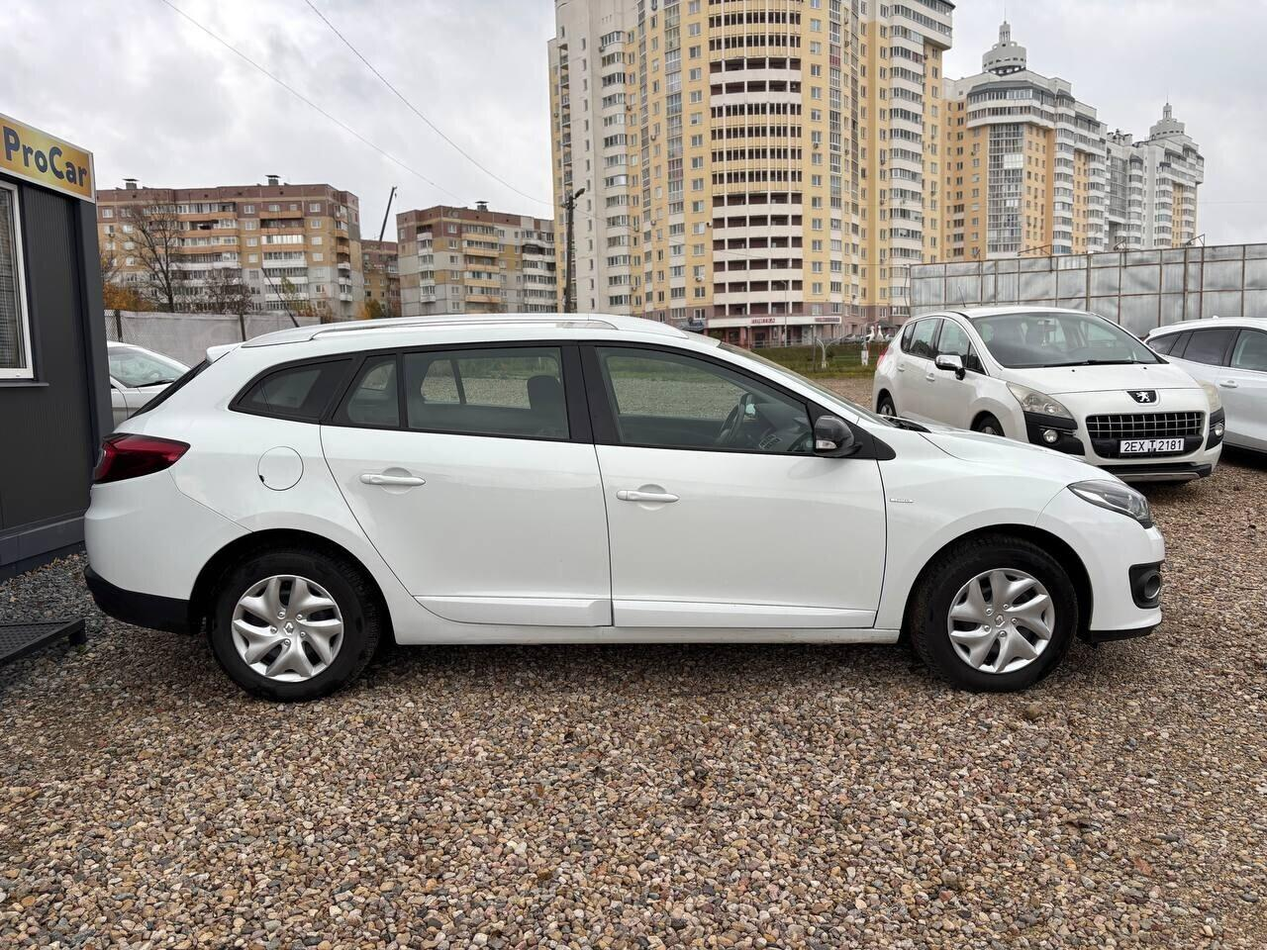Megane_2014-2016: (82, 312, 1172, 706)
